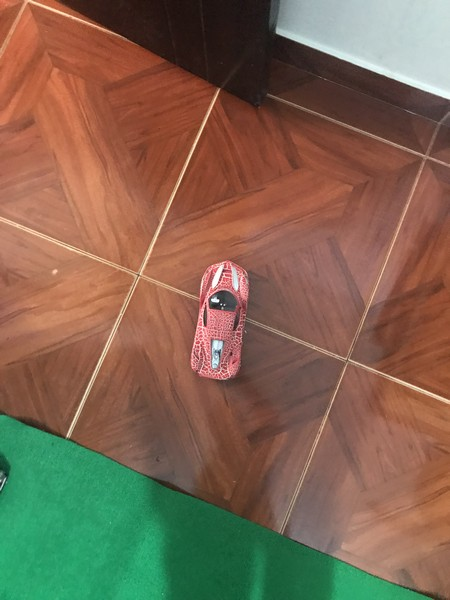RC: (188, 258, 252, 384)
